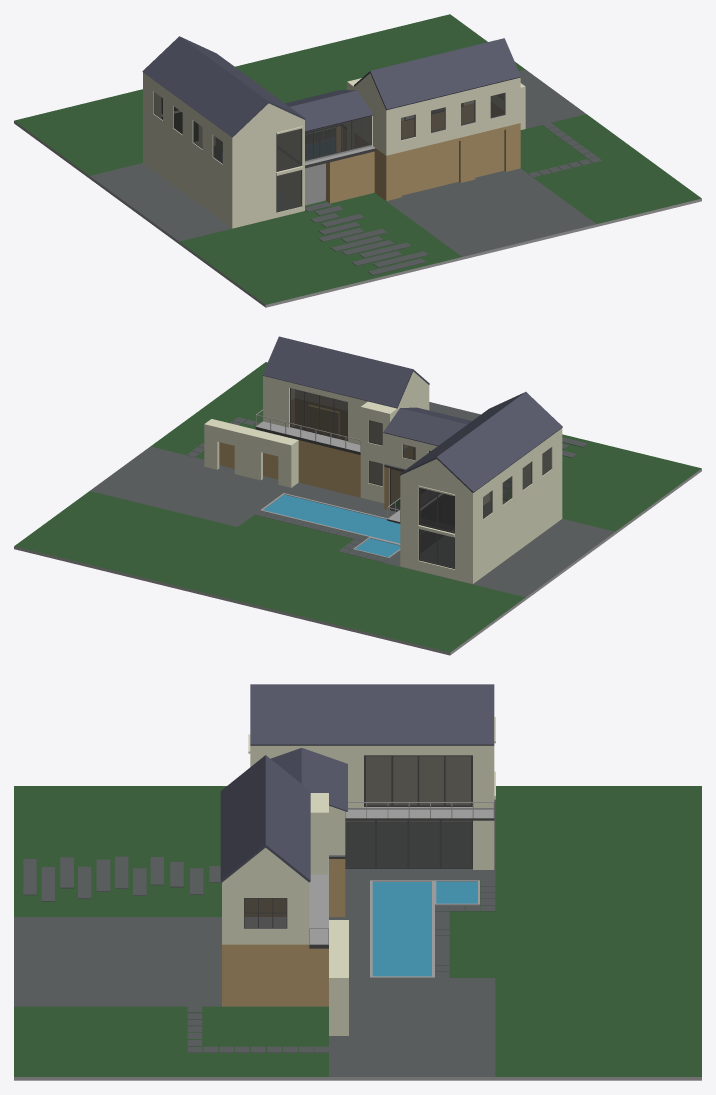
The model's file is ModernHouseOne.fbx.
The picture shows the model from 3 angles, top to bottom: view 1: azimuth 30°, elevation 25°; view 2: azimuth 150°, elevation 25°; view 3: azimuth 270°, elevation 25°; orthographic projection. The views are drawn at different scales.
Parts seen in each view (by area): view 1: polySurface78; view 2: polySurface78; view 3: polySurface78.
Boxes of the visible parts, x1,y1,x2,y2 form: polySurface78: (14, 14, 701, 307); polySurface78: (14, 336, 701, 655); polySurface78: (14, 684, 701, 1080).
Size of the model in its own units: 4851 by 1291 by 4851.
